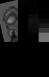zombie: (18, 0, 49, 42), (0, 0, 18, 42)
